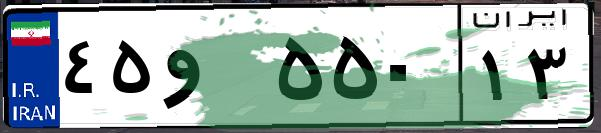0: (385, 28, 445, 110)
1: (475, 38, 525, 113)
3: (525, 38, 570, 115)
4: (57, 26, 110, 100)
5: (270, 28, 330, 110), (330, 28, 385, 110), (110, 28, 158, 98)
و: (158, 20, 270, 120)
